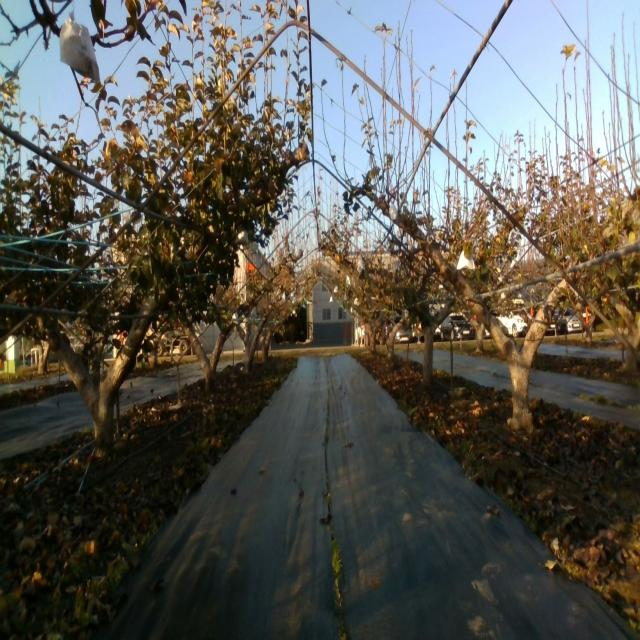pearbags: (59, 10, 102, 89), (456, 250, 474, 271), (235, 223, 249, 246), (388, 202, 398, 222)
